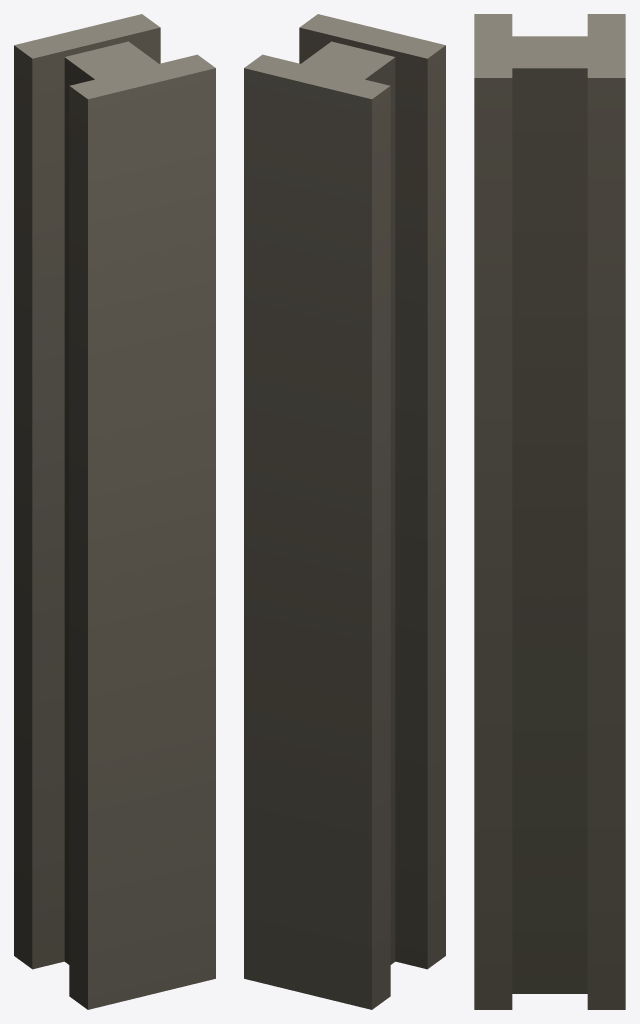
File: Concrete_Pole_1A.fbx
3 renders of one model, left to right at view 1: azimuth 30°, elevation 25°; view 2: azimuth 150°, elevation 25°; view 3: azimuth 270°, elevation 25°, orthographic. The views are drawn at different scales.
Parts seen in each view (by area): view 1: Concrete_Pole_1A; view 2: Concrete_Pole_1A; view 3: Concrete_Pole_1A.
Part boxes in pixels (x1=…): Concrete_Pole_1A: x1=14, y1=14, x2=215, y2=1009; Concrete_Pole_1A: x1=244, y1=14, x2=445, y2=1009; Concrete_Pole_1A: x1=474, y1=14, x2=625, y2=1009.
Bounding box in the file's own units: 40 × 272 × 40.
